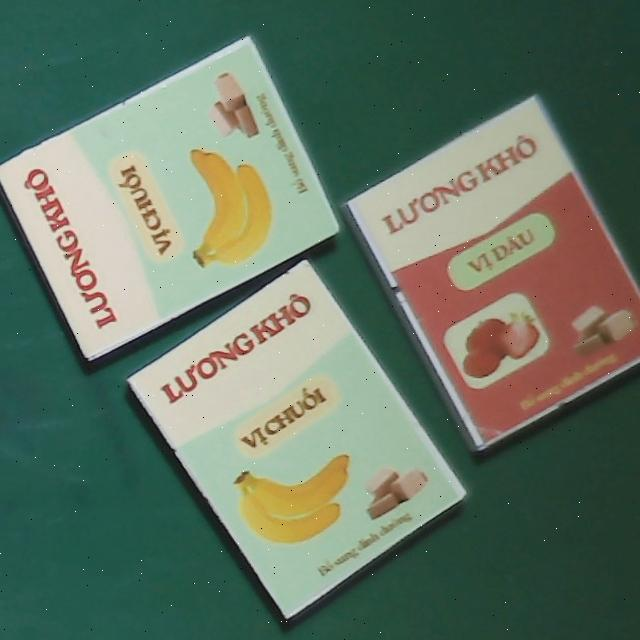chuoi: (125, 257, 470, 621), (0, 36, 347, 361)
